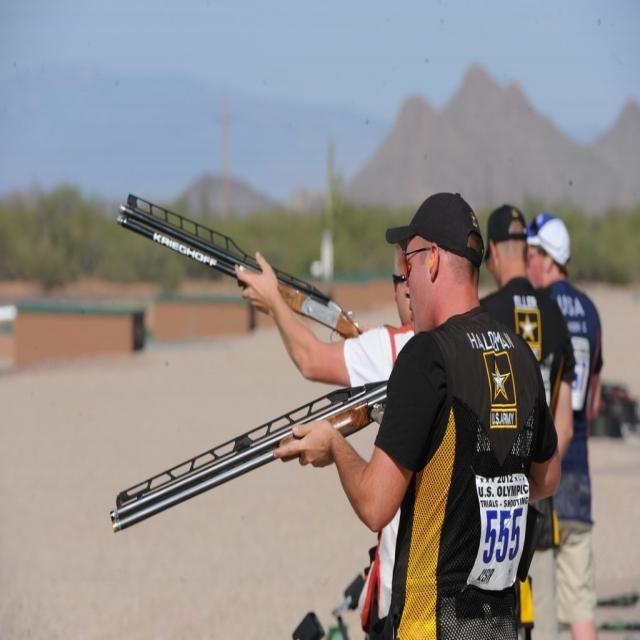weapon: (106, 376, 389, 536), (117, 194, 362, 344)
